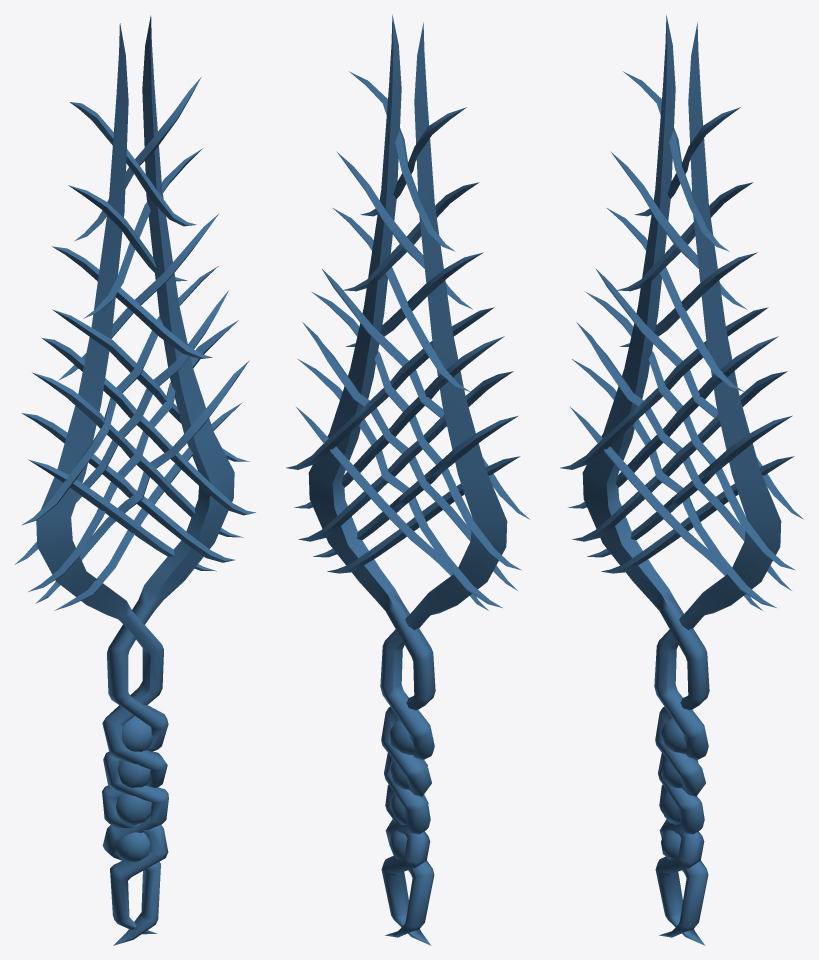
File: 12-Woven.gltf
3 views of the same model, side by side, from view 1: azimuth 30°, elevation 25°; view 2: azimuth 150°, elevation 25°; view 3: azimuth 330°, elevation 25° (orthographic).
Parts seen in each view (by area): view 1: b, a, s; view 2: a, b, s; view 3: b, a, s.
Boxes of the visible parts, box(x1,y1,x2,y2) form: b: box(21, 23, 255, 934); a: box(14, 15, 249, 945); s: box(116, 716, 153, 861); a: box(296, 14, 529, 945); b: box(286, 22, 520, 937); s: box(389, 718, 428, 859); b: box(570, 14, 803, 945); a: box(560, 22, 794, 937); s: box(661, 718, 698, 859).
Size of the model in its own units: 0.4405 by 1.63 by 0.083.
